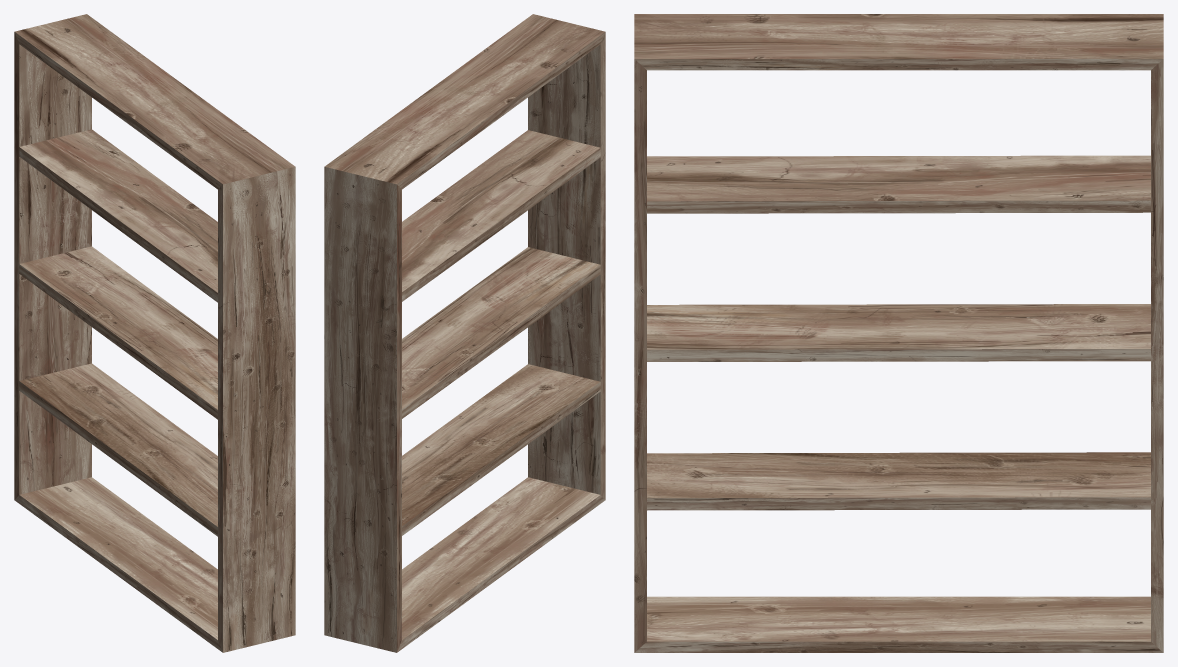
Rendered from Estanteria.fbx.
The picture shows the model from 3 angles, left to right: view 1: azimuth 30°, elevation 25°; view 2: azimuth 150°, elevation 25°; view 3: azimuth 270°, elevation 25°; orthographic projection. The views are drawn at different scales.
Parts seen in each view (by area): view 1: Cube.014; view 2: Cube.014; view 3: Cube.014.
Part boxes in pixels (x1,y1,x2,y2): Cube.014: [14, 14, 295, 652]; Cube.014: [324, 14, 605, 652]; Cube.014: [634, 14, 1163, 652].
Size of the model in its own units: 0.6485 by 4 by 3.23.
